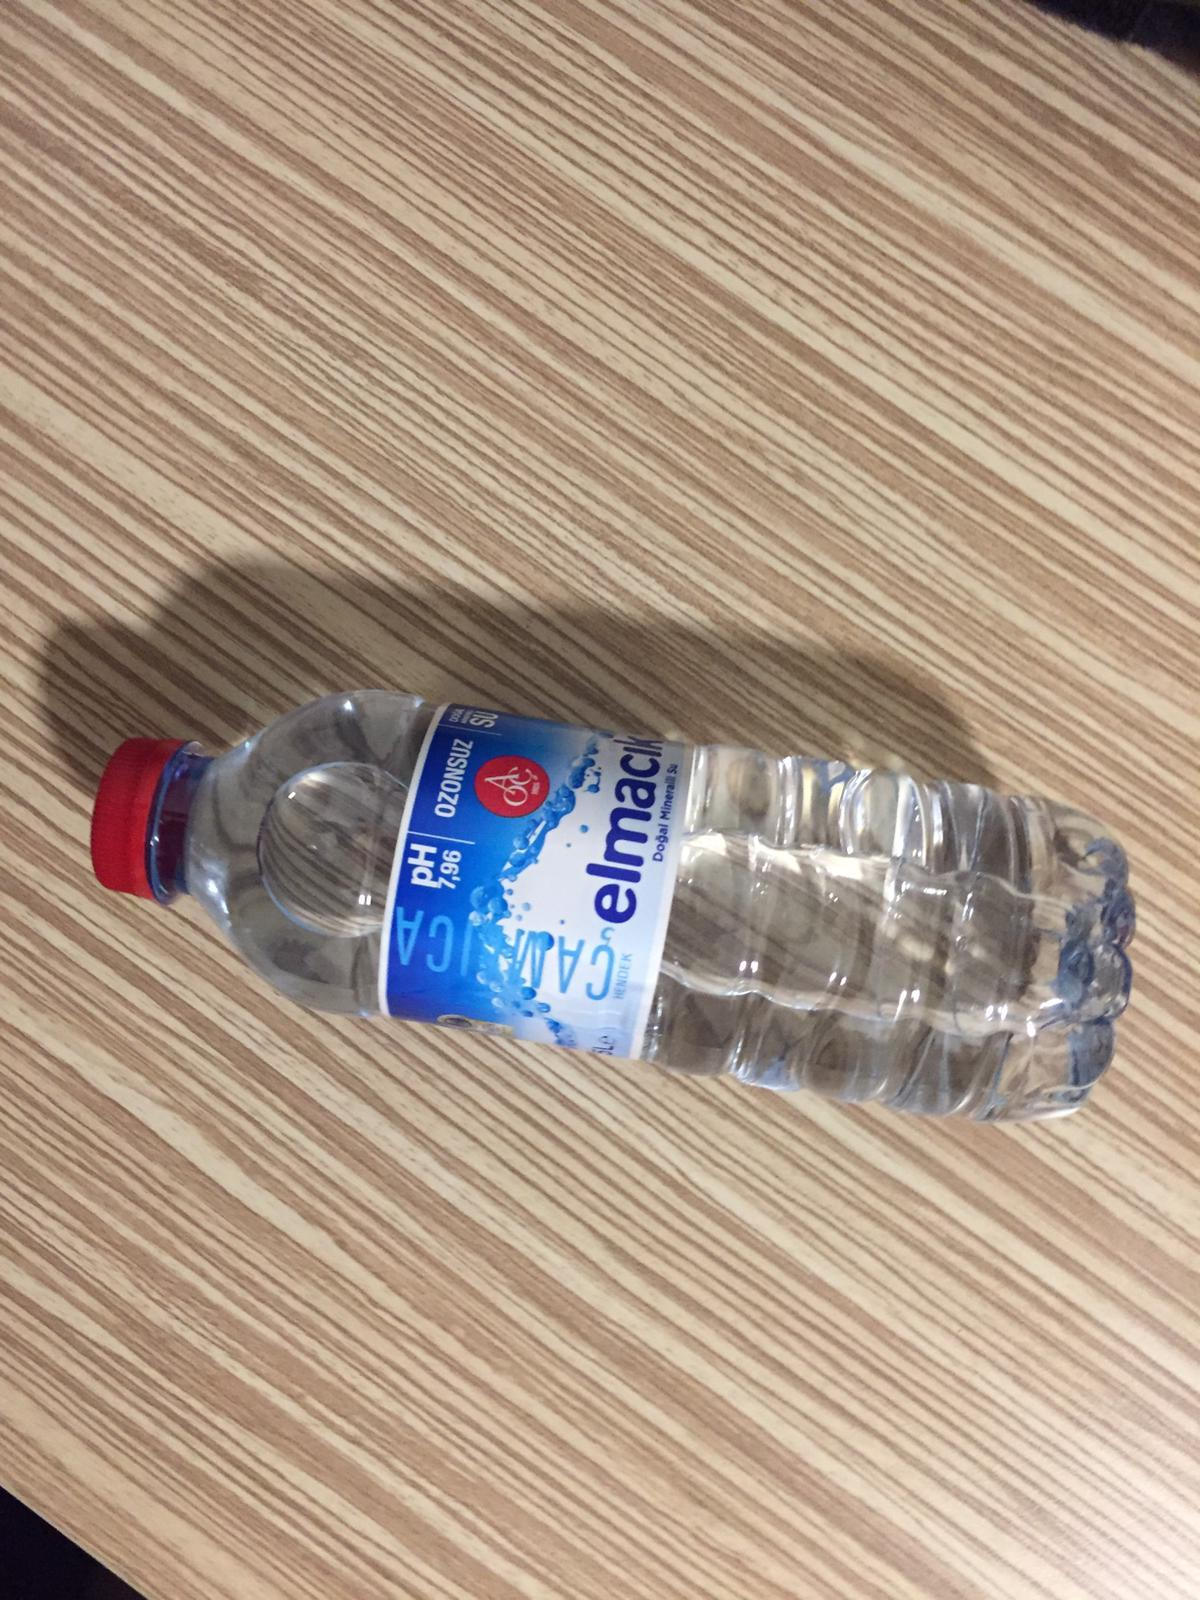bottle: (95, 670, 1141, 1119)
